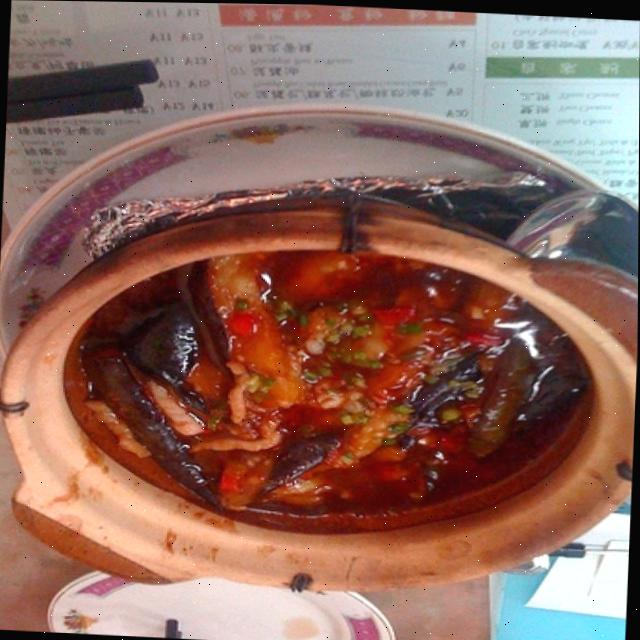鸡蛋料理: (0, 155, 639, 636)
